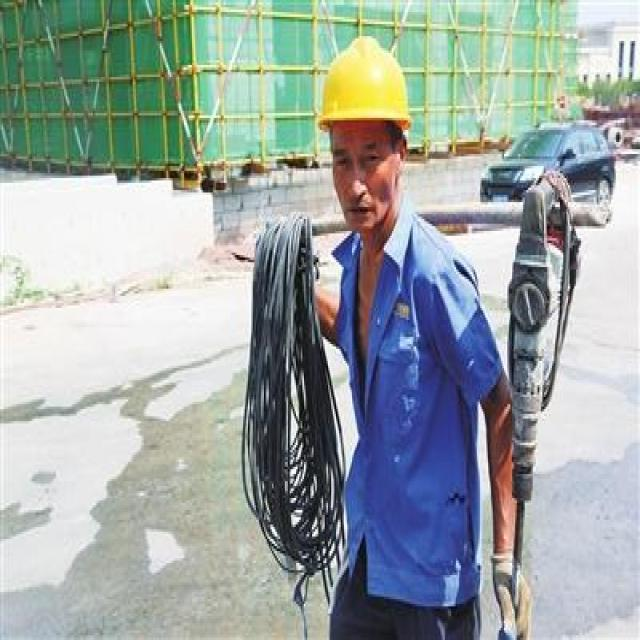helmet: (314, 27, 412, 226)
